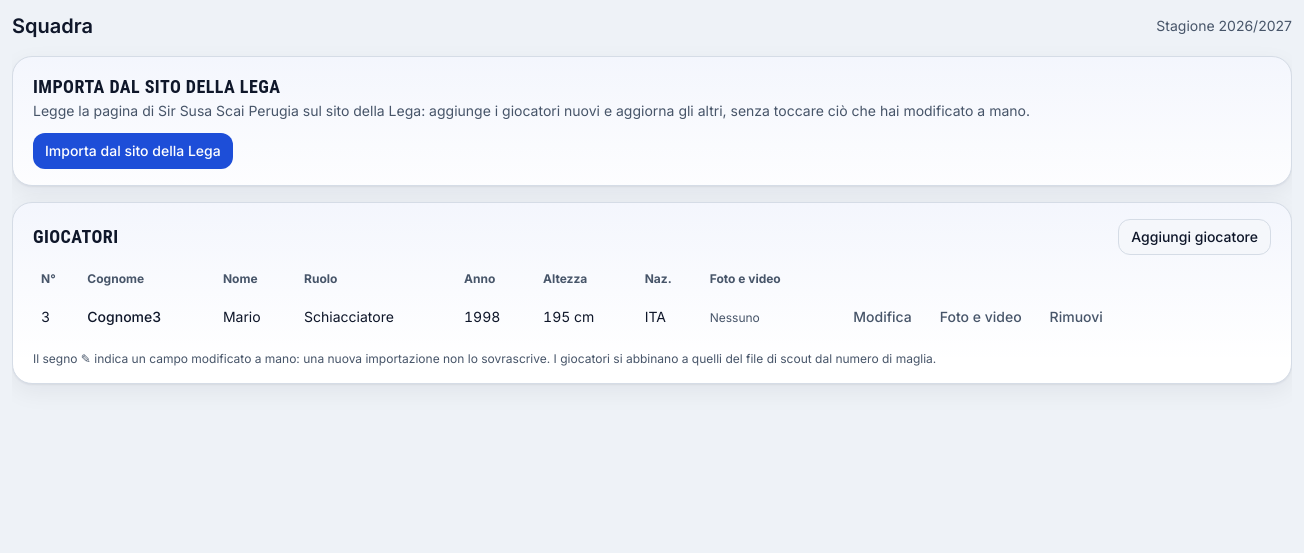
Scenario: page «Squadra» › imports from the site of the league and shows the result, the skipped and those no longer on the site
What coordinates should you click on to do the following:
click the button "Importa dal sito della Lega"
I would click on:
 (133, 151)
Its box is [33, 133, 233, 169].
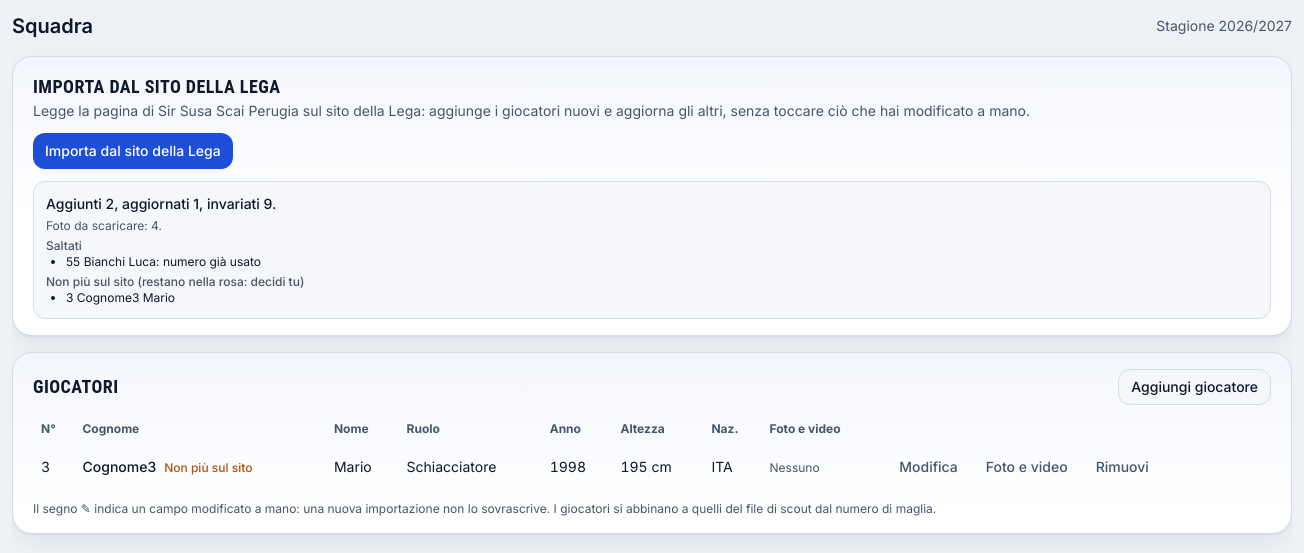
Now the text "Aggiunti 2, aggiornati 1, invariati 9." is shown, box [46, 195, 276, 212]
Now the list item "55 Bianchi Luca: numero già usato" is shown, box [66, 254, 261, 269]
Now the text "Foto da scaricare: 4." is shown, box [46, 218, 162, 233]
